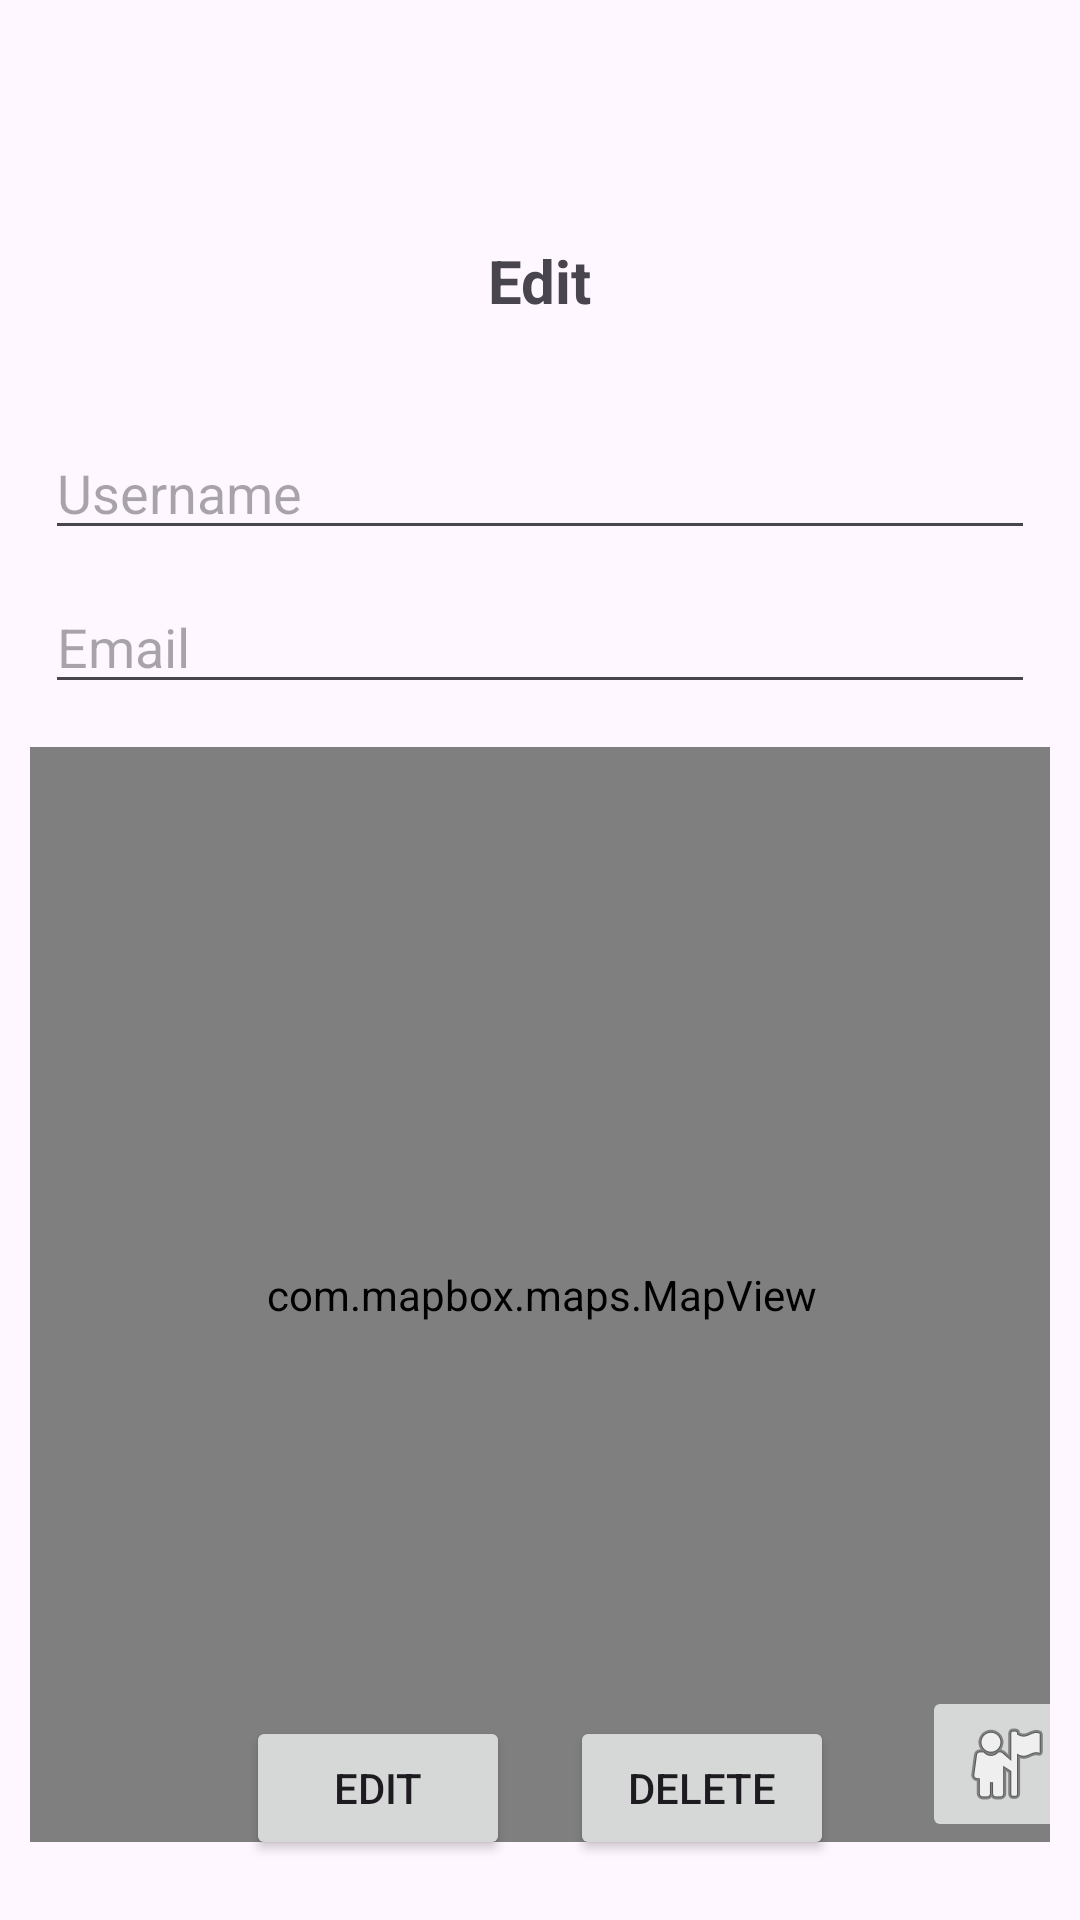

Named icons in this screenshot (1080 x 1920) and their centers, point (x, y):
myplaces: point (1001, 1764)
